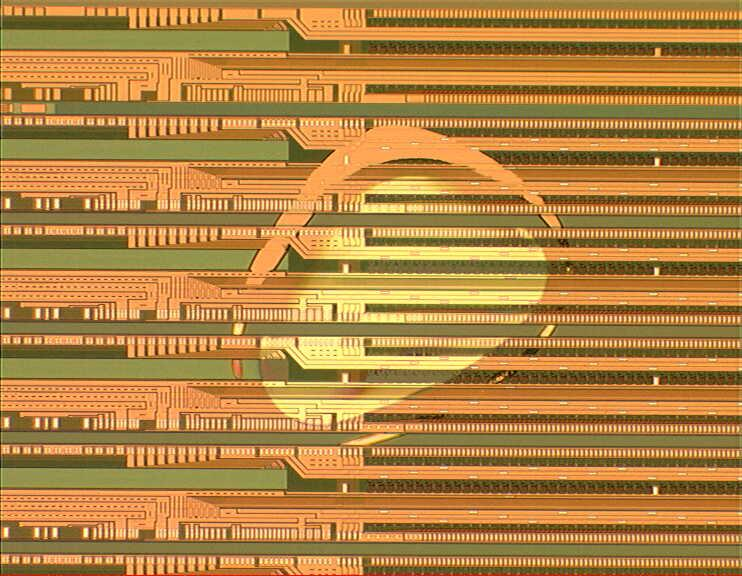BLOCK ETCH: (215, 118, 589, 478)
